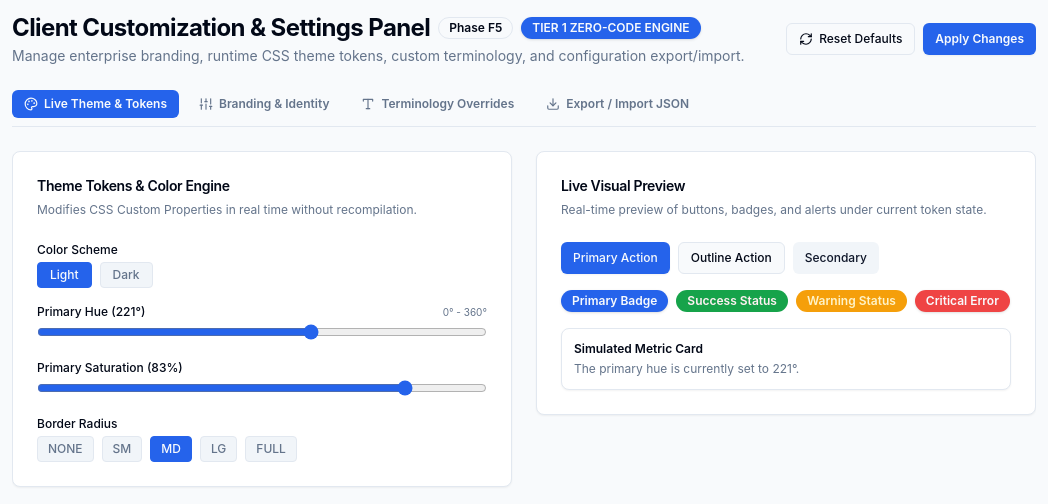
Test: Client Customization & Settings Panel (F5) › switches to terminology overrides tab and displays custom domain inputs
This screenshot has width=1048, height=504.
Step 1. Click the button "Terminology Overrides" → (438, 104), box [350,90,526,118]
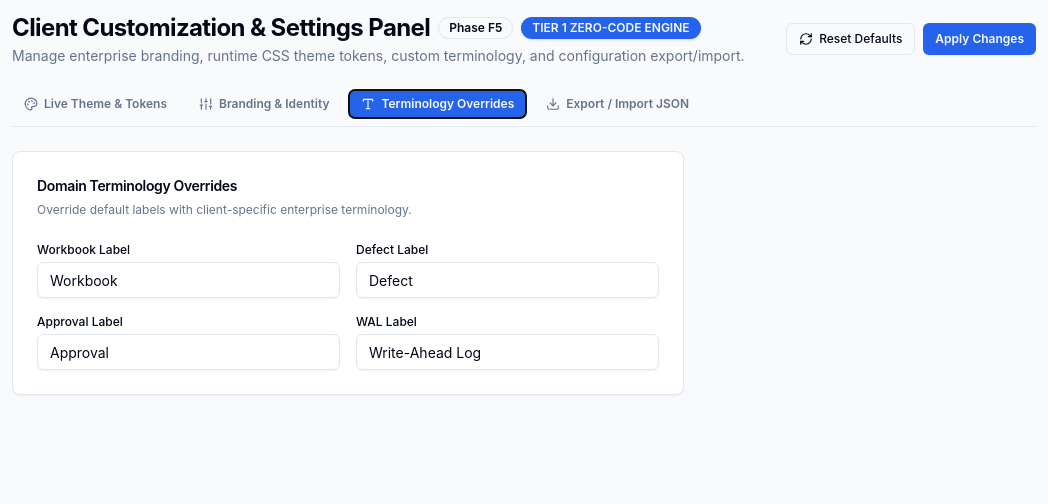
Expected: the heading "Domain Terminology Overrides" is shown, [37,177,237,194]
Expected: the field showing "Workbook" below "Workbook Label" is shown, [37,262,340,298]
Expected: the field showing "Defect" below "Defect Label" is shown, [356,262,659,298]
